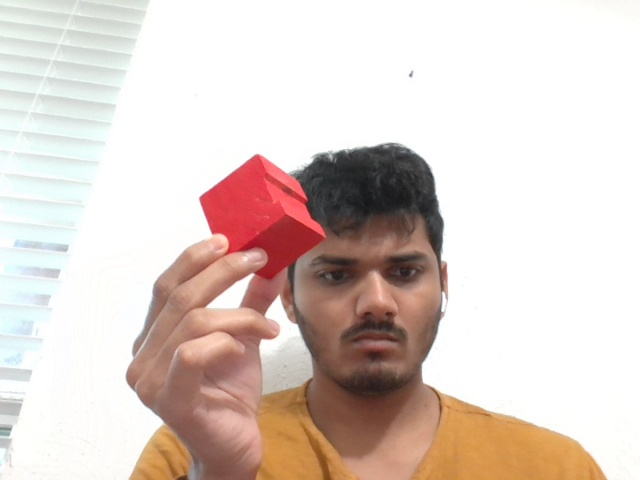RedBlock: (198, 152, 327, 283)
